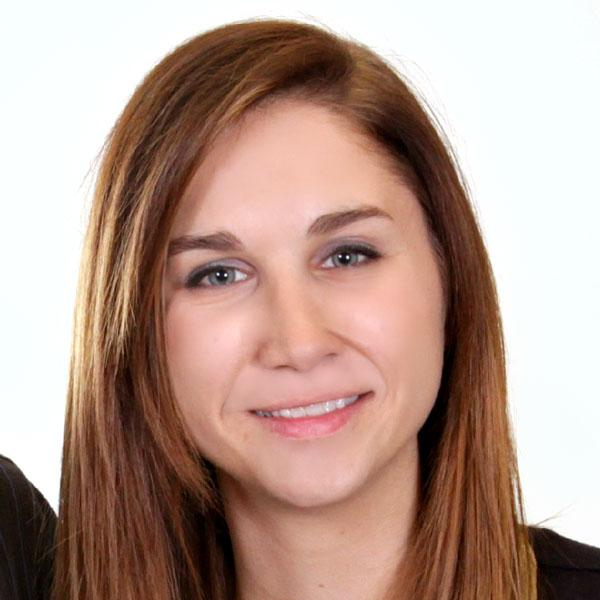Eyes: (174, 249, 267, 305), (302, 231, 388, 280)
